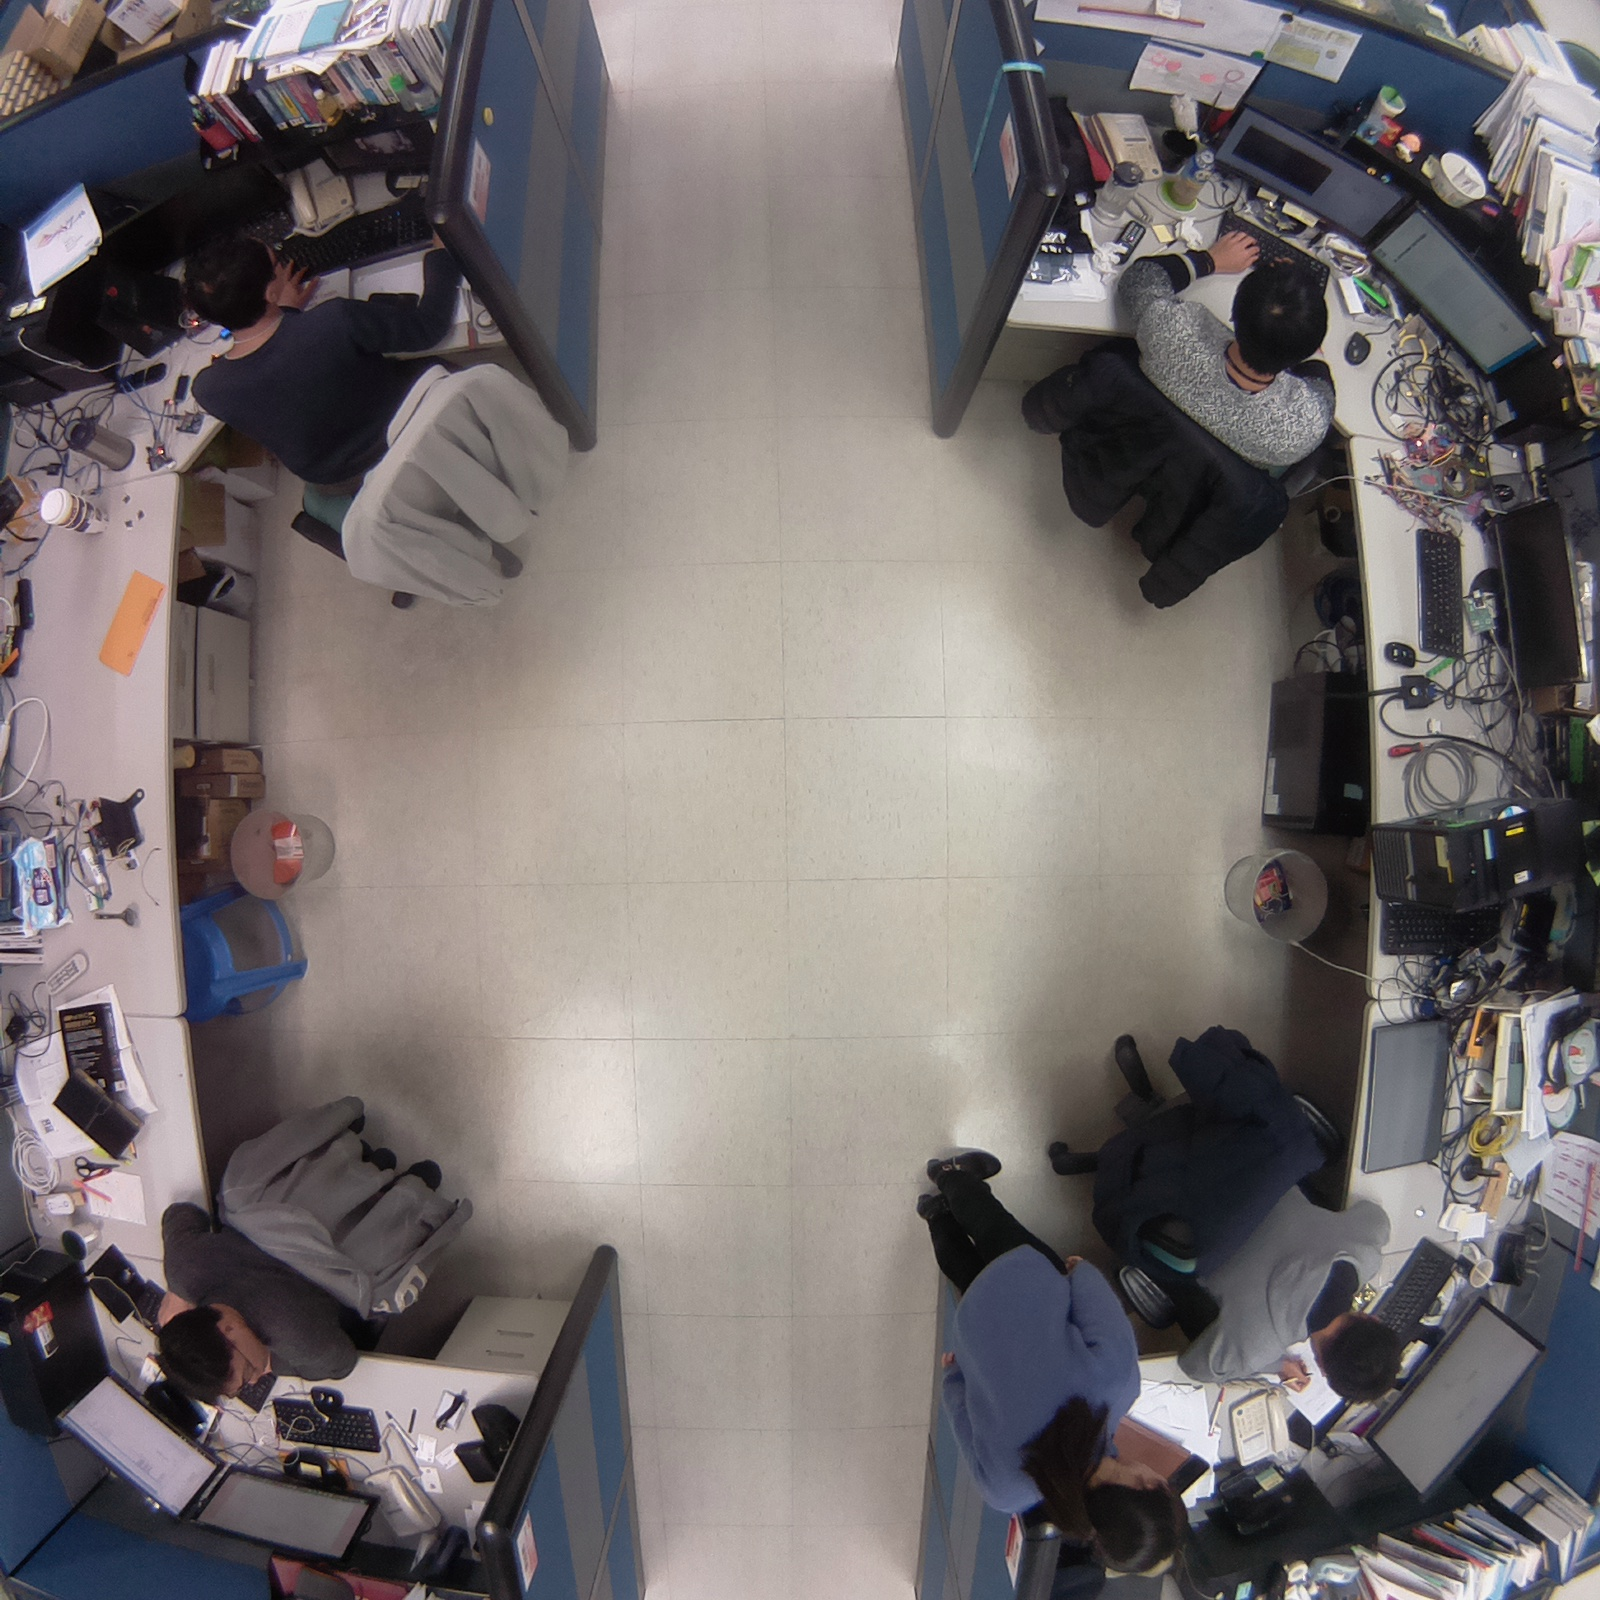head: (1034, 1442, 1197, 1589), (1227, 255, 1334, 374), (149, 1300, 257, 1419), (1295, 1300, 1410, 1410), (172, 225, 287, 327)
sitting: (163, 193, 589, 626), (1040, 1011, 1419, 1423), (1009, 221, 1344, 640), (129, 1075, 483, 1409)
standing: (901, 1124, 1195, 1584)
